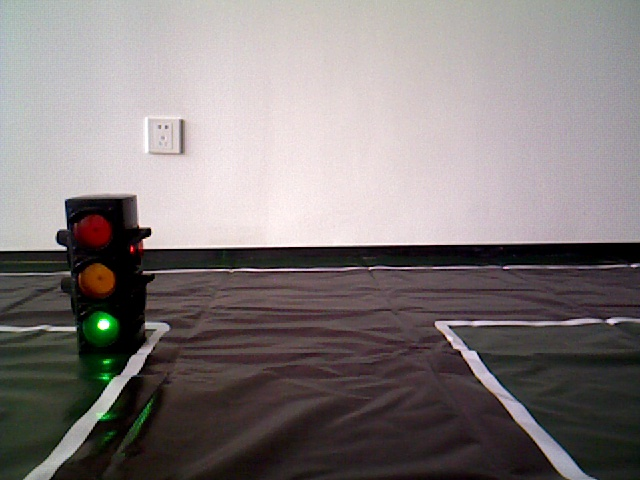green: (66, 203, 138, 344)
